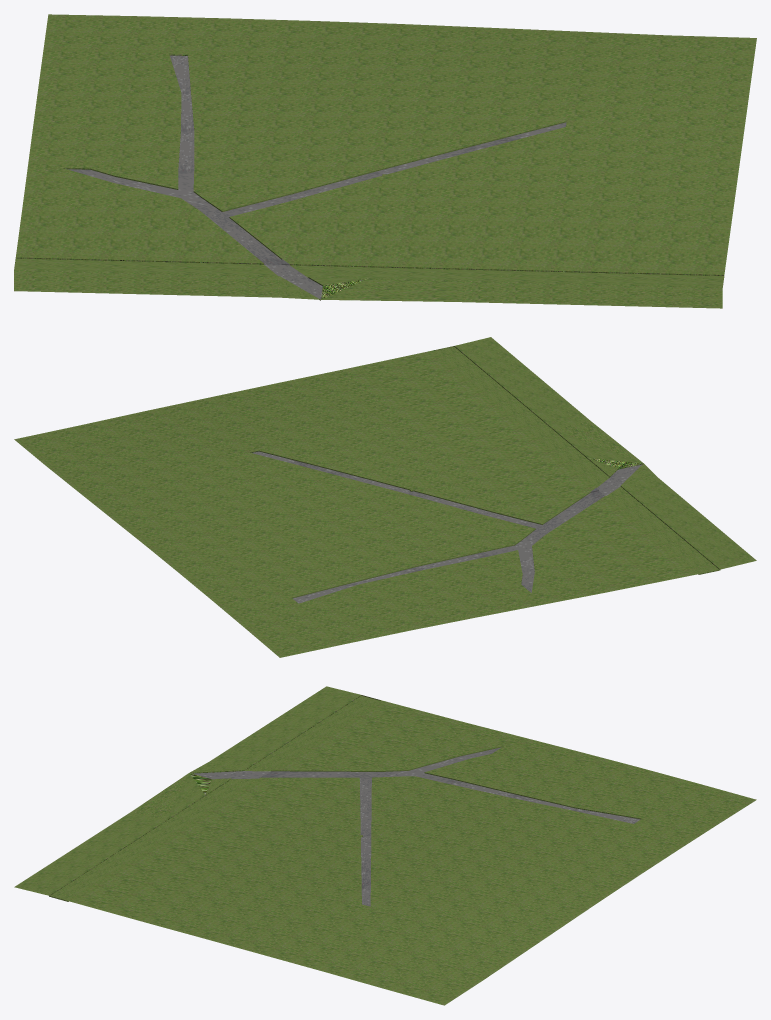
File: terrarian.fbx
3 views of the same model, one above another, from view 1: azimuth 30°, elevation 25°; view 2: azimuth 150°, elevation 25°; view 3: azimuth 270°, elevation 25° (orthographic). The views are drawn at different scales.
Visible parts, largest first — view 1: Terrarian; view 2: Terrarian; view 3: Terrarian.
Boxes of the visible parts, box(x1,y1,x2,y2) form: Terrarian: box(14, 14, 756, 308); Terrarian: box(14, 337, 756, 657); Terrarian: box(14, 686, 756, 1005).
Bounding box in the file's own units: 3.72 × 0.0443 × 3.66.
2 materials, 2 textured.
